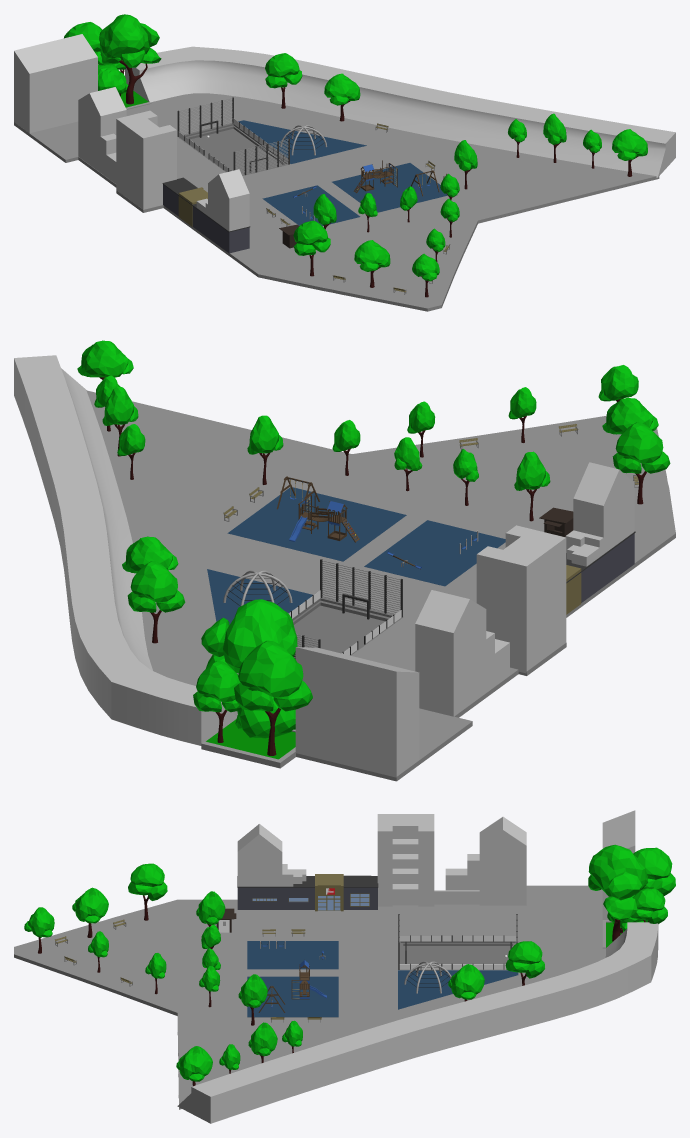
The model's file is Terloplein 3D version 3.fbx.
3 views of the same model, one above another, from view 1: azimuth 30°, elevation 25°; view 2: azimuth 150°, elevation 25°; view 3: azimuth 270°, elevation 25° (orthographic). The views are drawn at different scales.
Parts seen in each view (by area): view 1: Square, Train tracks, House4, House3, House2, Tree2, Court, Playground big, House, Playground triangle, Building, Fence (+15 smaller); view 2: Square, Train tracks, House4, House3, House2, Playground big, House, Playground small, Tree6, Tree2, Court, Playground triangle (+24 smaller); view 3: Square, Train tracks, House3, House2, Building, Tree2, Playground big, House, Court, Playground small, Playground triangle, Tree6 (+14 smaller).
Boxes of the visible parts, bbox=[...] form: Square: bbox=[14, 91, 659, 311]; Train tracks: bbox=[125, 46, 675, 177]; House4: bbox=[14, 34, 97, 133]; House3: bbox=[116, 110, 176, 209]; House2: bbox=[78, 87, 126, 183]; Tree2: bbox=[99, 14, 161, 104]; Court: bbox=[177, 123, 289, 175]; Playground big: bbox=[332, 163, 447, 212]; House: bbox=[196, 169, 249, 231]; Playground triangle: bbox=[238, 120, 366, 163]; Building: bbox=[162, 177, 250, 253]; Fence: bbox=[179, 98, 288, 174]; Square: bbox=[86, 390, 675, 781]; Train tracks: bbox=[14, 355, 236, 745]; House4: bbox=[295, 647, 419, 777]; House3: bbox=[476, 525, 566, 673]; House2: bbox=[415, 590, 509, 716]; Playground big: bbox=[227, 487, 406, 561]; House: bbox=[565, 462, 634, 566]; Playground small: bbox=[364, 520, 505, 586]; Tree6: bbox=[234, 640, 312, 755]; Tree2: bbox=[201, 599, 297, 673]; Court: bbox=[292, 597, 403, 655]; Playground triangle: bbox=[207, 569, 312, 624]; Square: bbox=[14, 885, 623, 1109]; Train tracks: bbox=[177, 922, 658, 1123]; House3: bbox=[377, 814, 434, 906]; House2: bbox=[445, 816, 526, 905]; Building: bbox=[237, 875, 378, 909]; Tree2: bbox=[588, 844, 648, 941]; Playground big: bbox=[247, 976, 338, 1017]; House: bbox=[237, 824, 306, 886]; Court: bbox=[398, 941, 518, 969]; Playground small: bbox=[247, 941, 338, 969]; Playground triangle: bbox=[398, 970, 518, 1009]; Tree6: bbox=[633, 847, 675, 895].
Bounding box in the file's own units: 11043 × 2133 × 13015.
